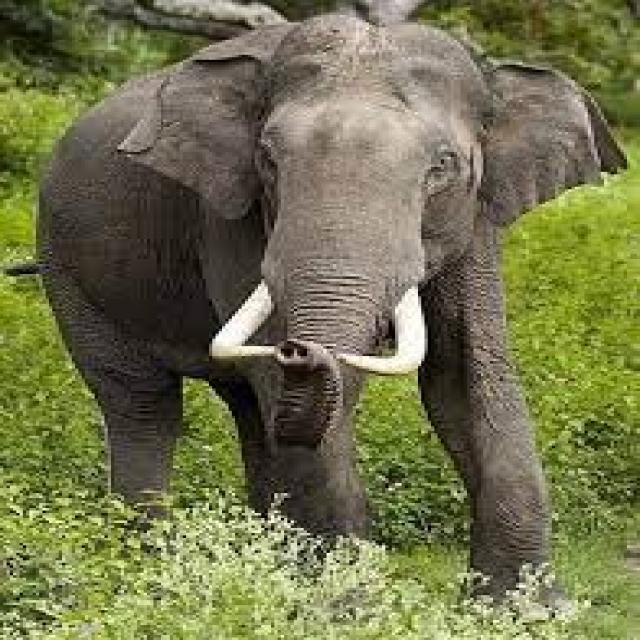Elephant: (32, 7, 628, 627)
